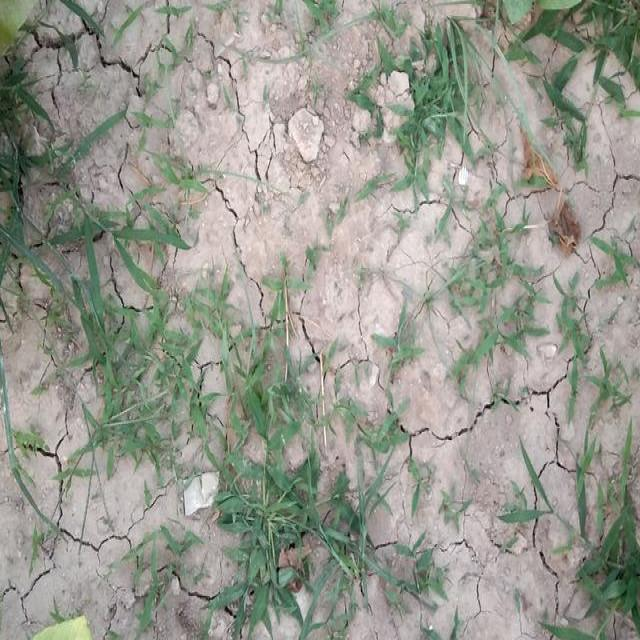weed: (2, 128, 157, 452), (185, 306, 322, 640), (470, 486, 634, 637), (322, 437, 438, 638), (505, 0, 640, 155), (356, 28, 446, 180), (510, 300, 594, 432), (448, 241, 498, 394), (352, 337, 406, 402), (588, 228, 640, 290)
